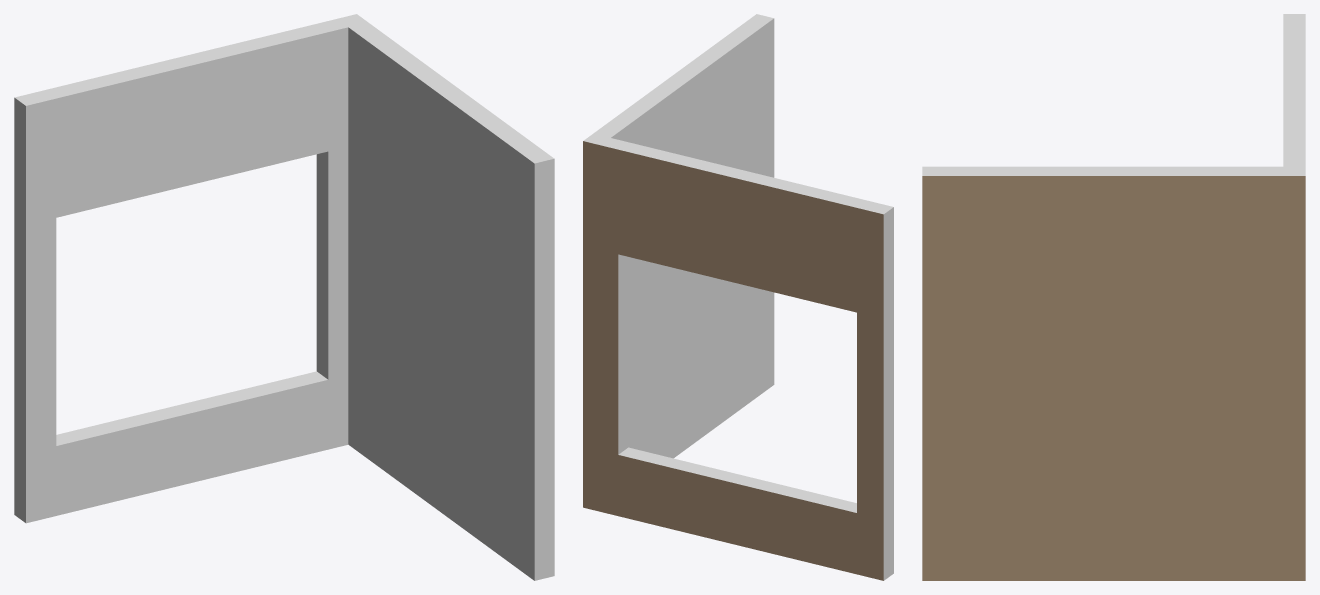
Rendered from Wall2_C2_13.fbx.
The picture shows the model from 3 angles, left to right: view 1: azimuth 30°, elevation 25°; view 2: azimuth 150°, elevation 25°; view 3: azimuth 270°, elevation 25°; orthographic projection. The views are drawn at different scales.
Parts seen in each view (by area): view 1: Wall2_C2_13; view 2: Wall2_C2_13; view 3: Wall2_C2_13.
Boxes of the visible parts, x1=… form: Wall2_C2_13: x1=14, y1=14, x2=554, y2=580; Wall2_C2_13: x1=583, y1=14, x2=893, y2=580; Wall2_C2_13: x1=922, y1=14, x2=1305, y2=580.
Bounding box in the file's own units: 258 × 300 × 258.
